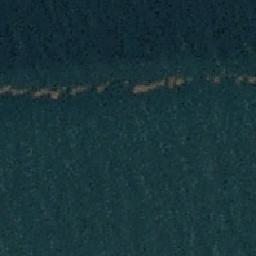debris: (1, 80, 85, 99), (126, 76, 188, 93), (225, 71, 256, 86), (93, 79, 114, 93), (209, 74, 223, 83)
